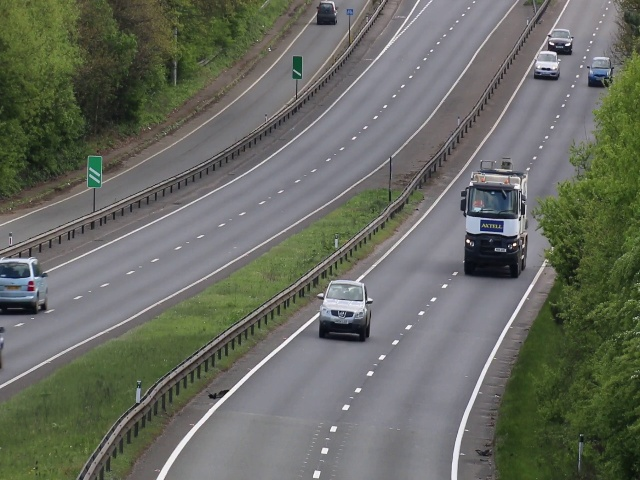car: (462, 163, 529, 276), (319, 279, 372, 343), (1, 256, 50, 315), (532, 51, 561, 82), (587, 55, 613, 88), (547, 27, 572, 54), (317, 1, 338, 27)
